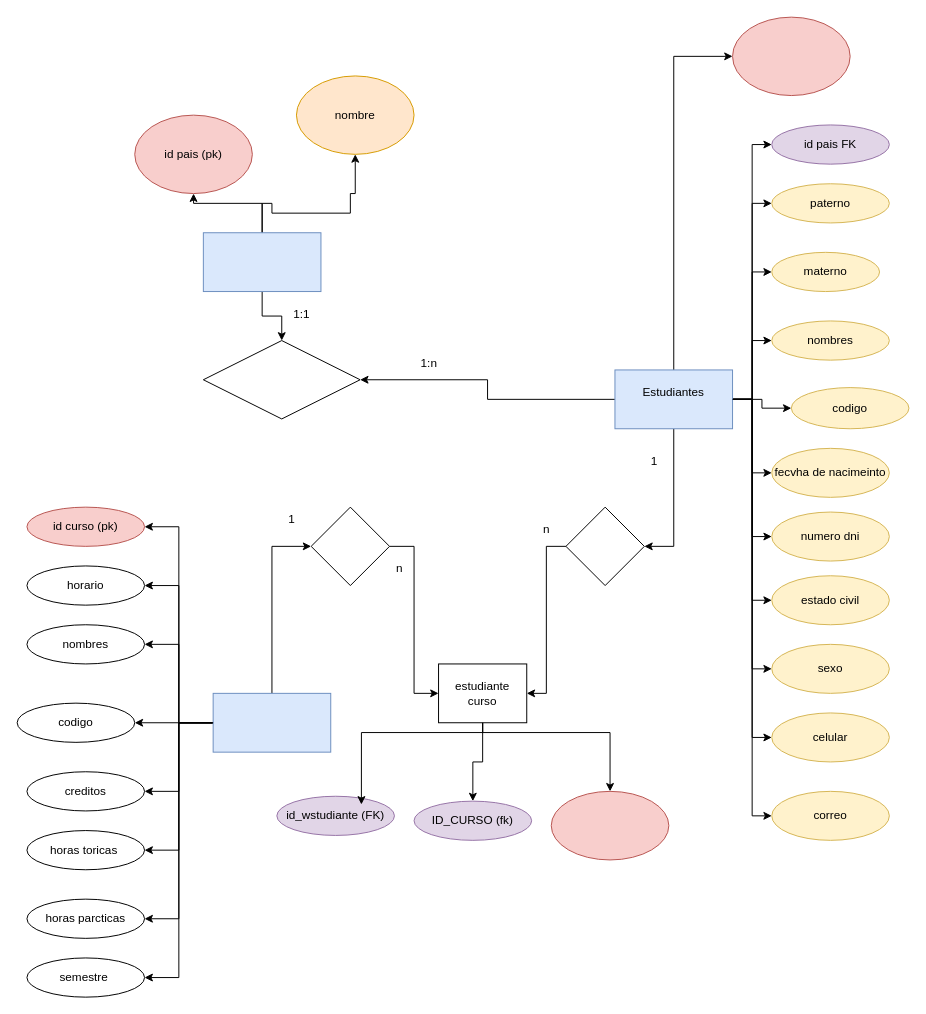
Image size: 926x1014. Some labels were removed from this diagram. Each missing label, with the centre of its shape:
"cursos" belongs at (x=271, y=722).
"id estudiante (pk)" belongs at (x=791, y=56).
"id_estudiante curso" belongs at (x=609, y=825).
"Pais" belongs at (x=261, y=262).
"tiene" belongs at (x=281, y=379).
